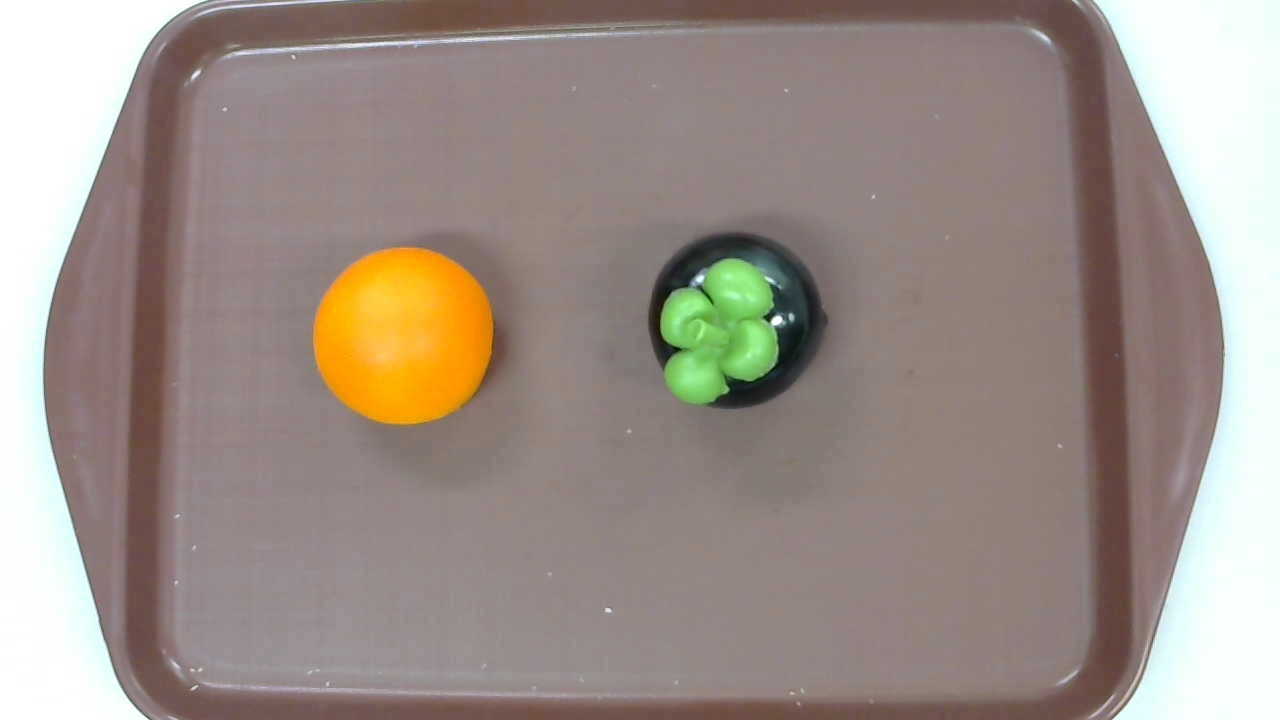bun: (313, 247, 493, 427)
mangosteen: (648, 231, 828, 411)
